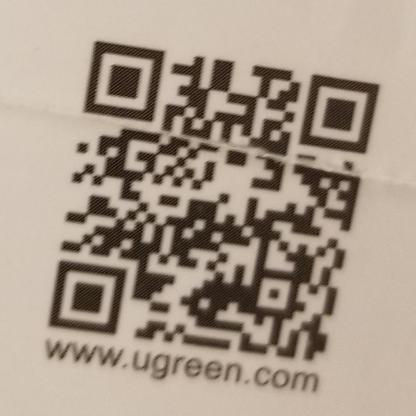qr: (35, 37, 388, 367)
